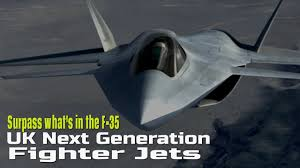fighter: (2, 1, 299, 129)
